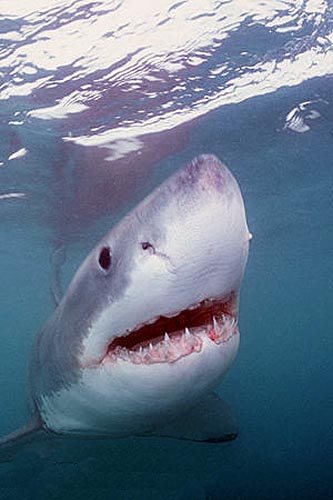Carcharodon_carcharias: (12, 150, 277, 471)
